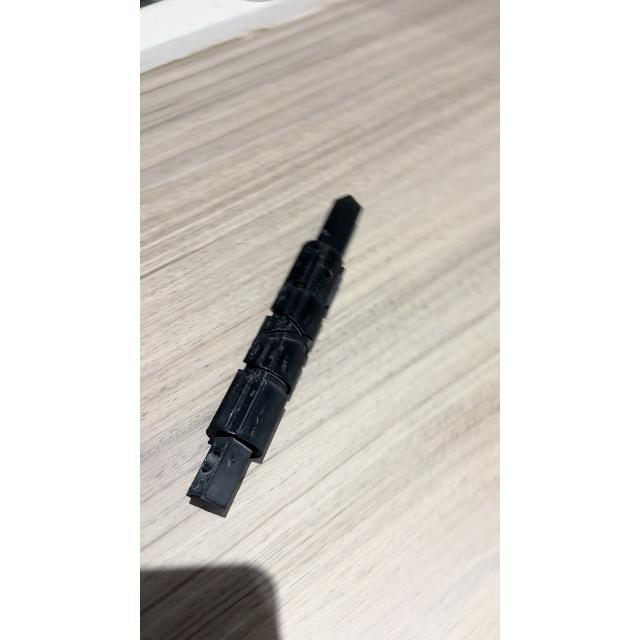Pieza1: (176, 188, 394, 528)
